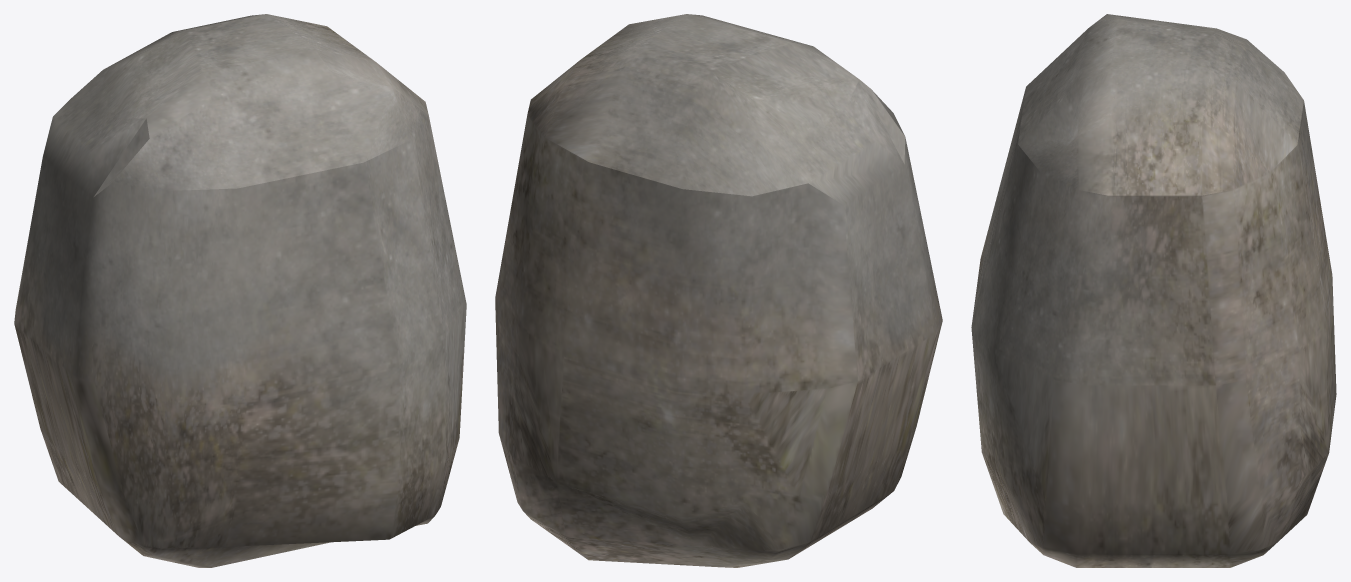
The picture shows the model from 3 angles, left to right: view 1: azimuth 30°, elevation 25°; view 2: azimuth 150°, elevation 25°; view 3: azimuth 270°, elevation 25°; orthographic projection. The views are drawn at different scales.
Visible parts, largest first — view 1: pCube1; view 2: pCube1; view 3: pCube1.
Part boxes in pixels (x1,y1,x2,y2): pCube1: (14, 14, 466, 567); pCube1: (495, 14, 942, 567); pCube1: (971, 14, 1336, 567).
Bounding box in the file's own units: 3.93 × 4.86 × 3.39.
1 material, 1 textured.
